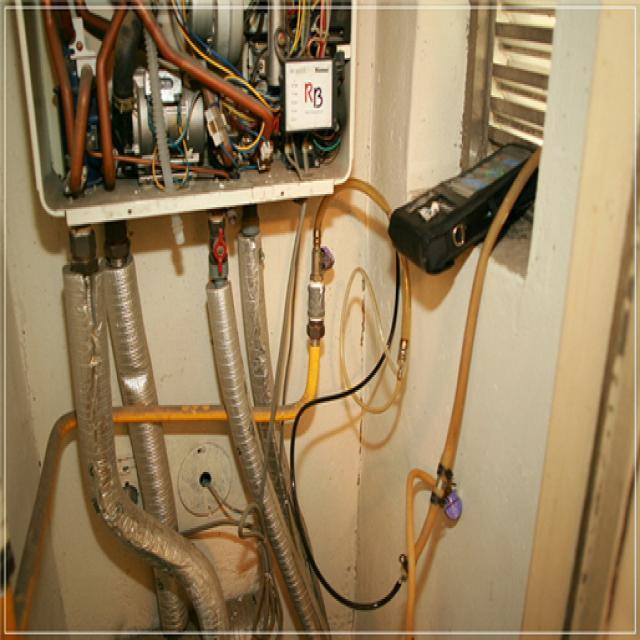Boiler: (0, 0, 376, 250)
